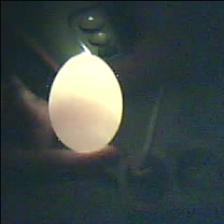infertile: (46, 52, 122, 152)
